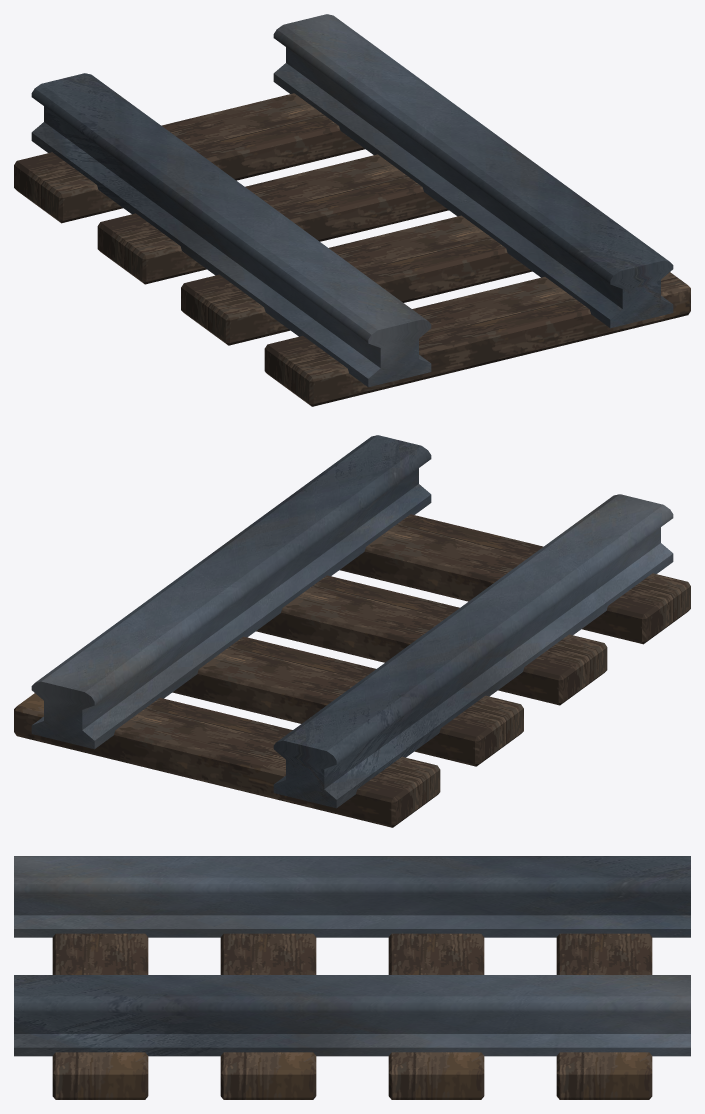
The model's file is Rail.fbx.
3 views of the same model, one above another, from view 1: azimuth 30°, elevation 25°; view 2: azimuth 150°, elevation 25°; view 3: azimuth 270°, elevation 25° (orthographic).
Visible parts, largest first — view 1: Box009, Box005; view 2: Box009, Box005; view 3: Box009, Box005.
Part boxes in pixels (box(x1,y1,x2,y2)): Box009: box(31, 14, 673, 387); Box005: box(14, 93, 690, 406); Box009: box(31, 435, 673, 808); Box005: box(14, 514, 690, 827); Box009: box(14, 856, 690, 1056); Box005: box(52, 933, 652, 1099).
Size of the model in its own units: 62.2 by 12.58 by 95.05.
2 materials, 2 textured.
